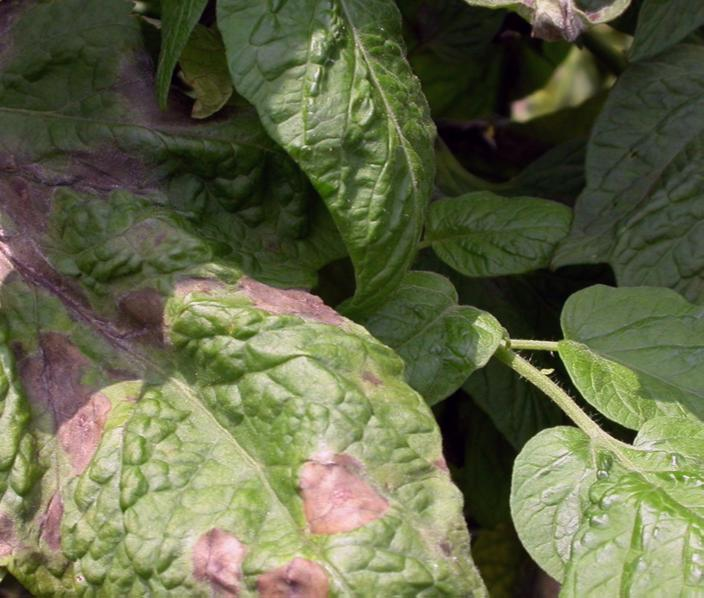Tomato leaf late blight: (0, 98, 496, 598), (570, 28, 704, 346)
